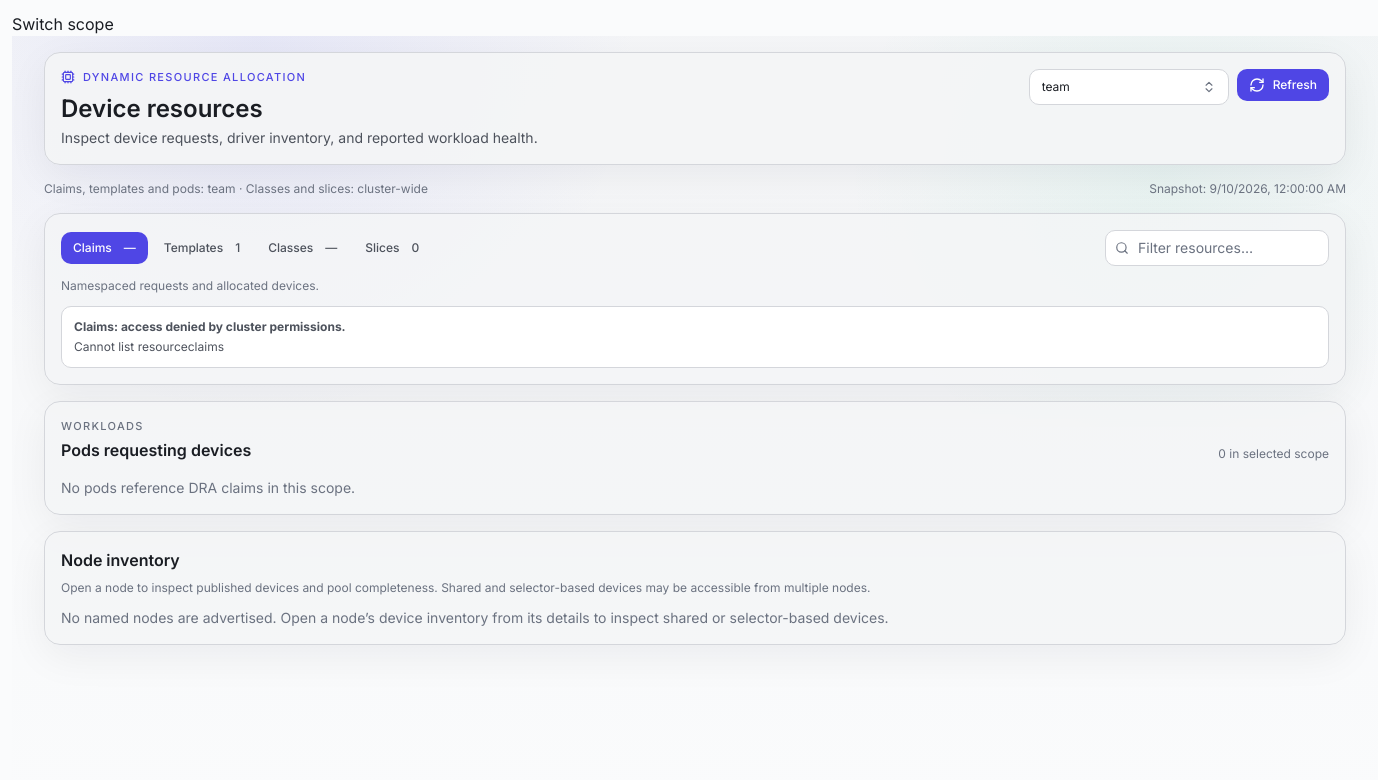
Test: DeviceResourcesView › distinguishes forbidden and unsupported sources while leaving readable resources usable
Expected: the text "Claims: access denied by cluster permissions." is shown, x1=74 y1=318 x2=346 y2=334
Click the button "Classes —": {"x": 303, "y": 248} x1=256 y1=232 x2=349 y2=264
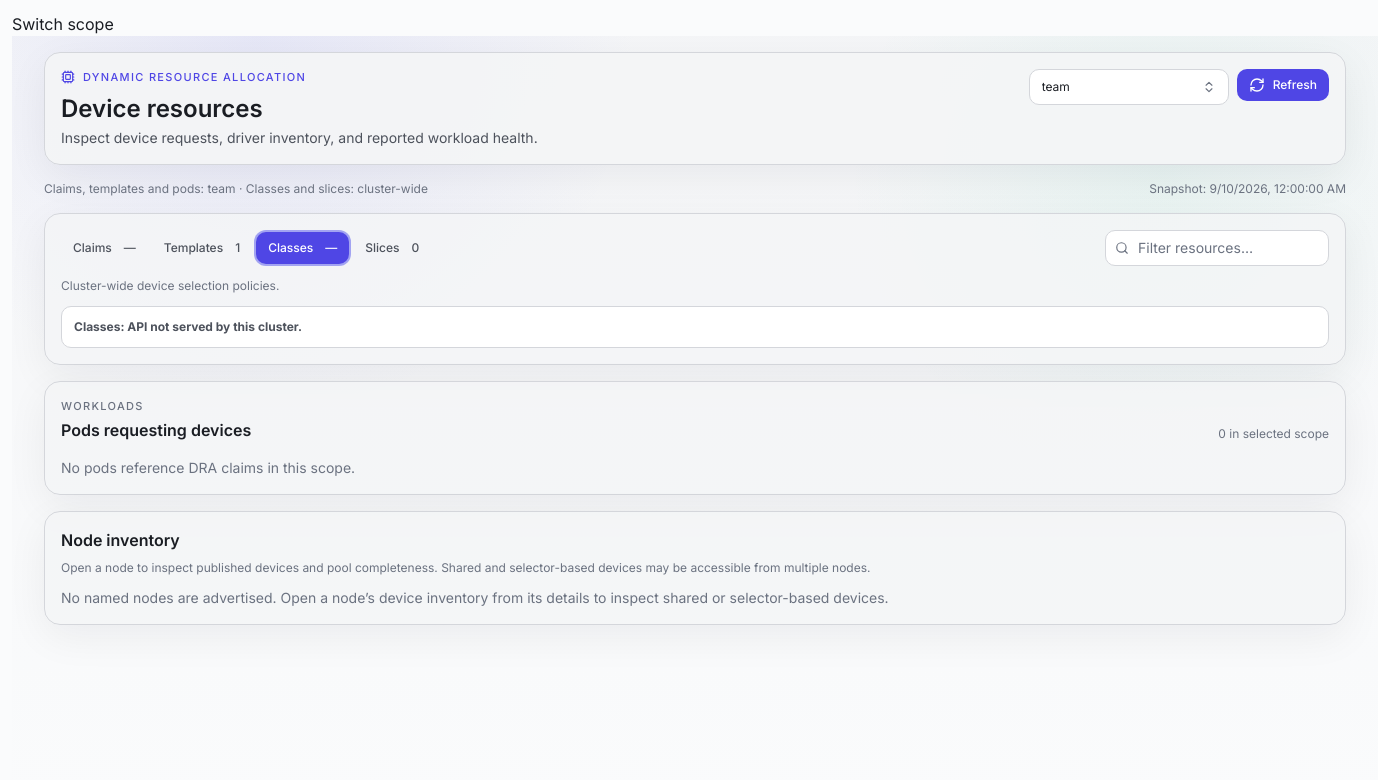
Expected: the text "Classes: API not served by this cluster." is shown, x1=74 y1=318 x2=302 y2=334
Click the button "Templates 1": {"x": 202, "y": 248} x1=152 y1=232 x2=252 y2=264
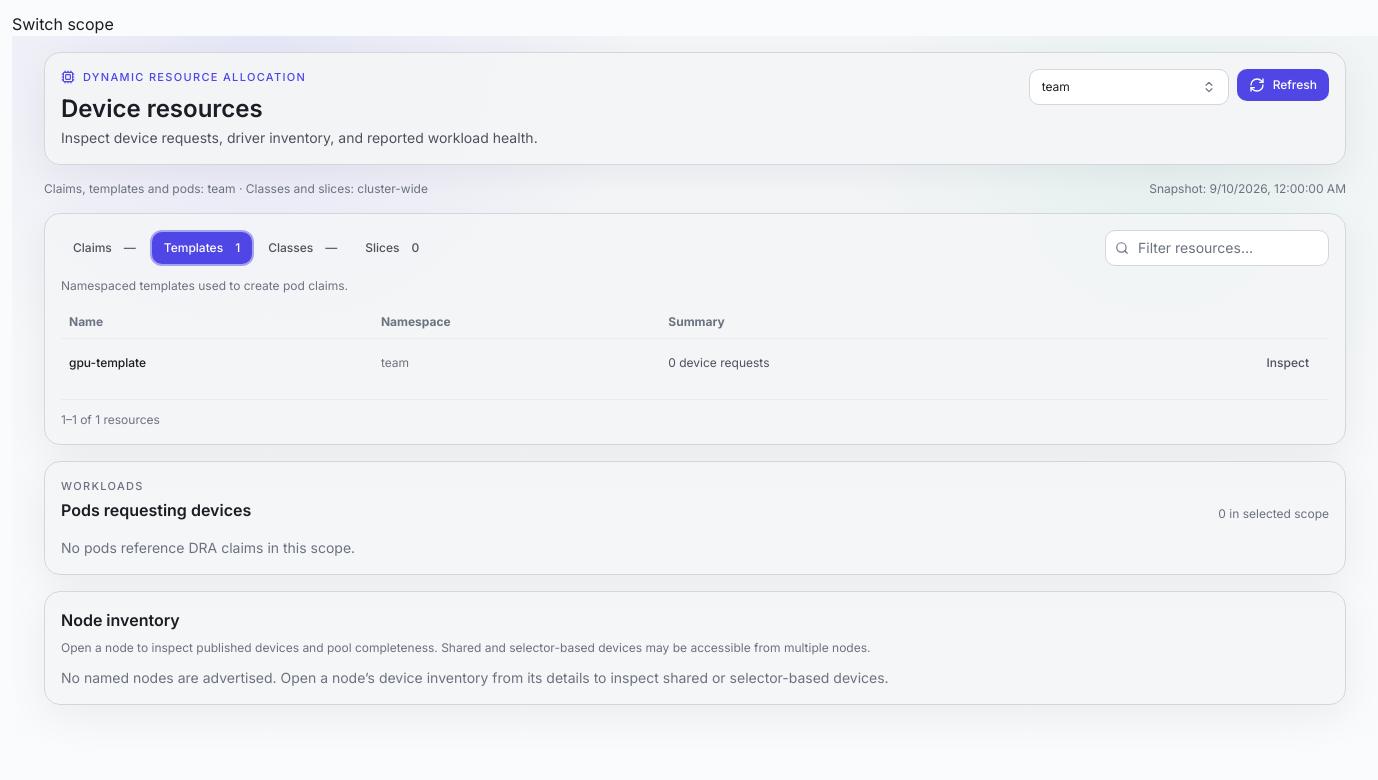
Expected: the text "gpu-template" is shown, x1=61 y1=338 x2=373 y2=386
